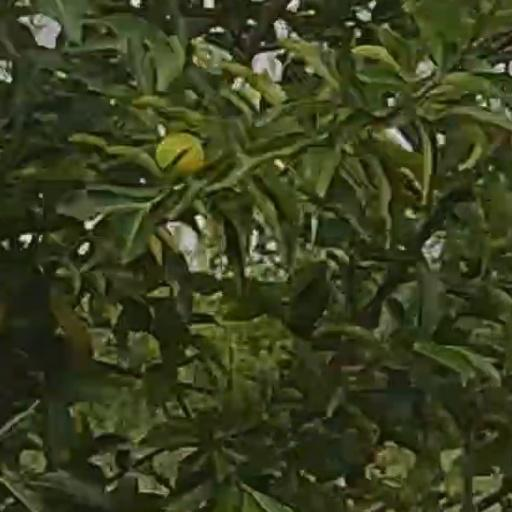acerola: (157, 133, 202, 174)
